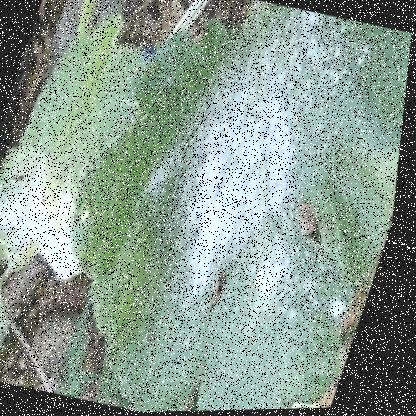PowderyMildew: (136, 0, 391, 329)
